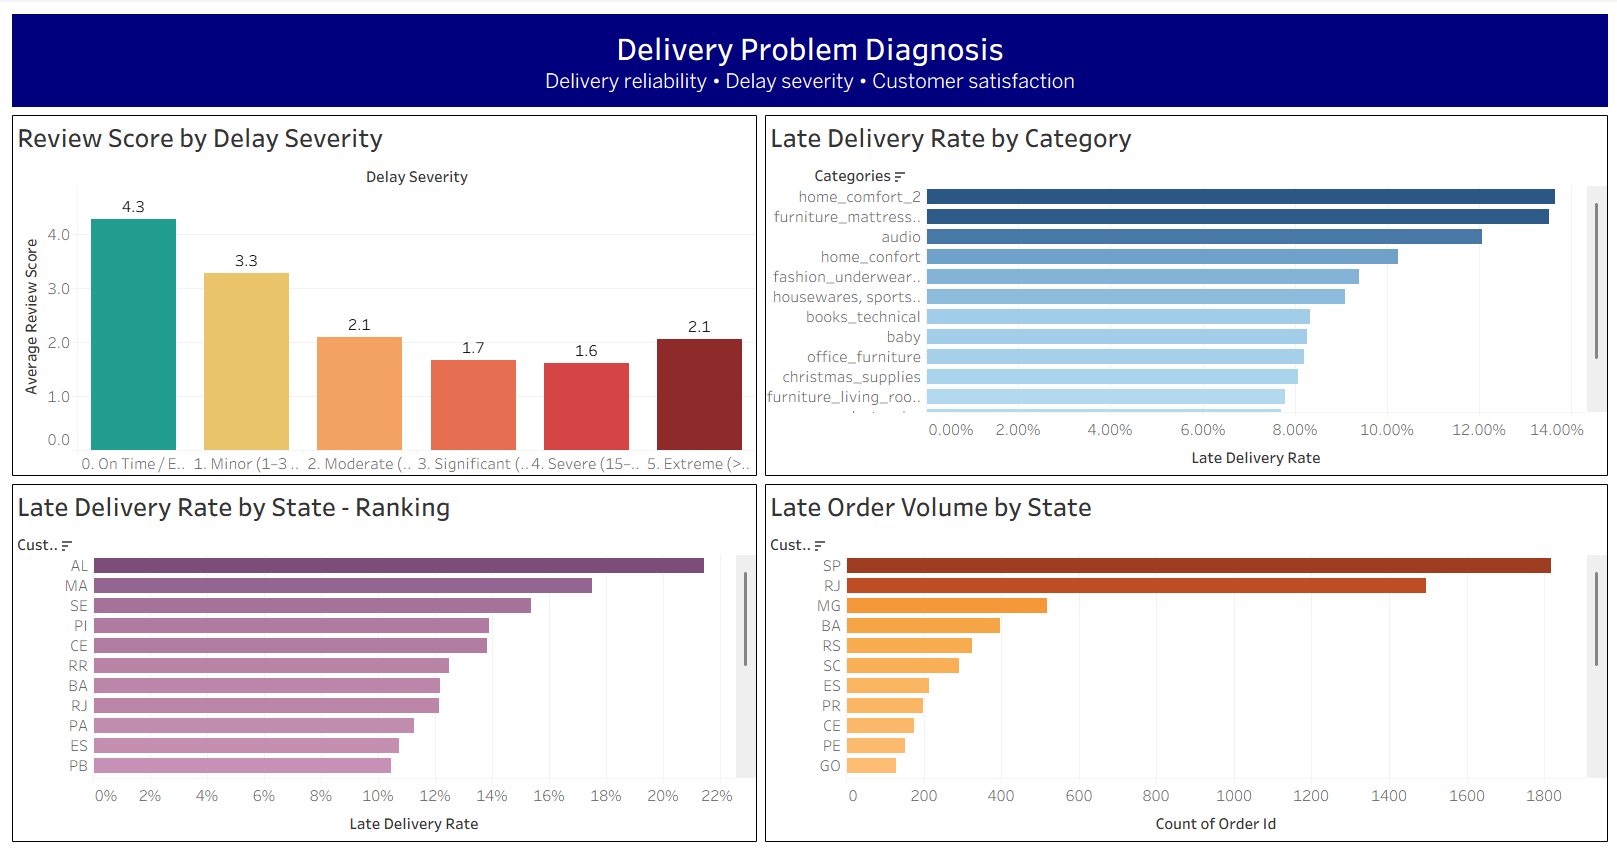

The page's visual inventory and layout, read from the dashboard file:
{"tool":"tableau","page":{"name":"Delivery Problem Diagnosis","canvas":[1000,1000],"units":"permille","ordinal":1},"visuals":[{"type":"title","box":[4.9,9.4,990.1,118.5]},{"type":"worksheet","title":"Review Score by Delay Severity","mark":"Automatic","rows":["Calculation_0427489860870147"],"cols":["Calculation_0443982769819648"],"box":[4.9,127.9,464.8,433.1]},{"type":"worksheet","title":"Late Delivery Rate by Category","mark":"Automatic","rows":["categories"],"cols":["Calculation_0427489860206594"],"box":[469.8,127.9,525.3,433.1]},{"type":"worksheet","title":"Late Delivery Rate by State - Ranking","mark":"Automatic","rows":["customer_state"],"cols":["Calculation_0427489860206594"],"box":[4.9,561,464.8,429.6]},{"type":"worksheet","title":"Late Order Volume by State","mark":"Automatic","rows":["customer_state"],"cols":["order_id"],"box":[469.8,561,525.3,429.6]}]}

Visuals, with their boxes on the dashboard's canvas, which has no fixed pixel size, in thousandths of its width and height (x1, y1, x2, y2). These are canvas units, not pixel positions in the 1617x851 screenshot, which may show the page scaled, cropped or inside an application window:
title: x1=5, y1=9, x2=995, y2=128
"Review Score by Delay Severity" worksheet: x1=5, y1=128, x2=470, y2=561
"Late Delivery Rate by Category" worksheet: x1=470, y1=128, x2=995, y2=561
"Late Delivery Rate by State - Ranking" worksheet: x1=5, y1=561, x2=470, y2=991
"Late Order Volume by State" worksheet: x1=470, y1=561, x2=995, y2=991
